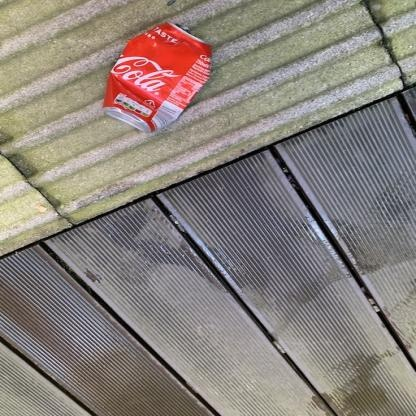trash: (103, 22, 211, 132)
